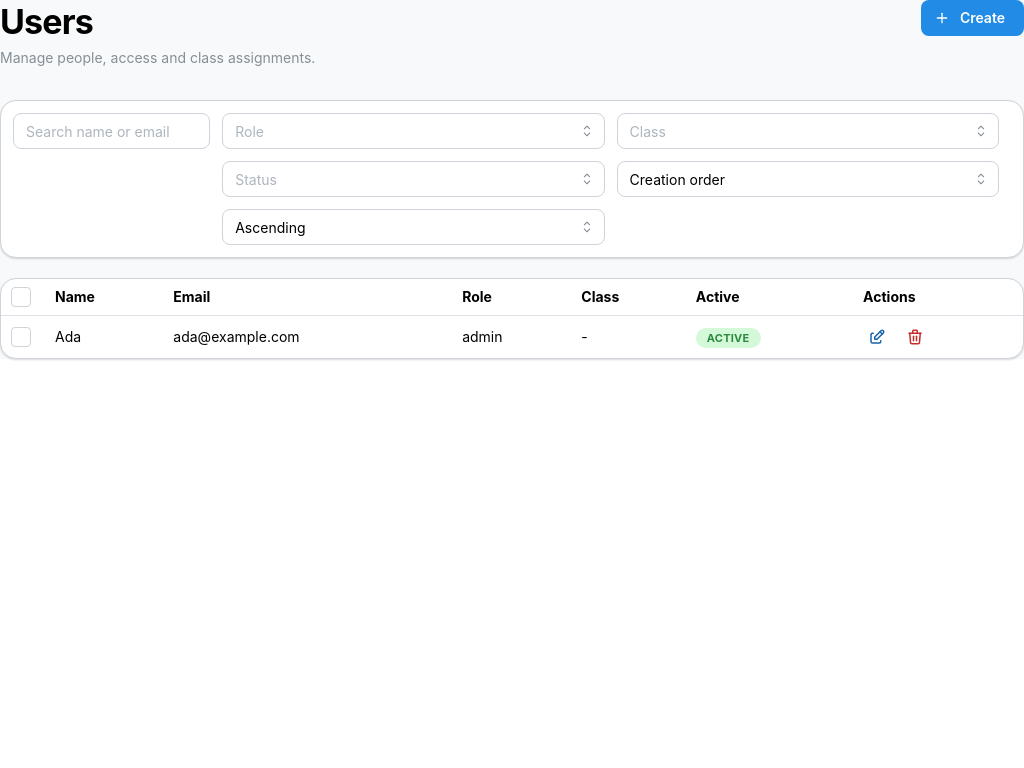
it: UsersPage filtering › opens the edit modal with list data and no loading spinner
What coordinates should you click on to do the following:
click the button named "Edit"
I would click on:
 (877, 337)
Its box is 863,323 -> 891,351.
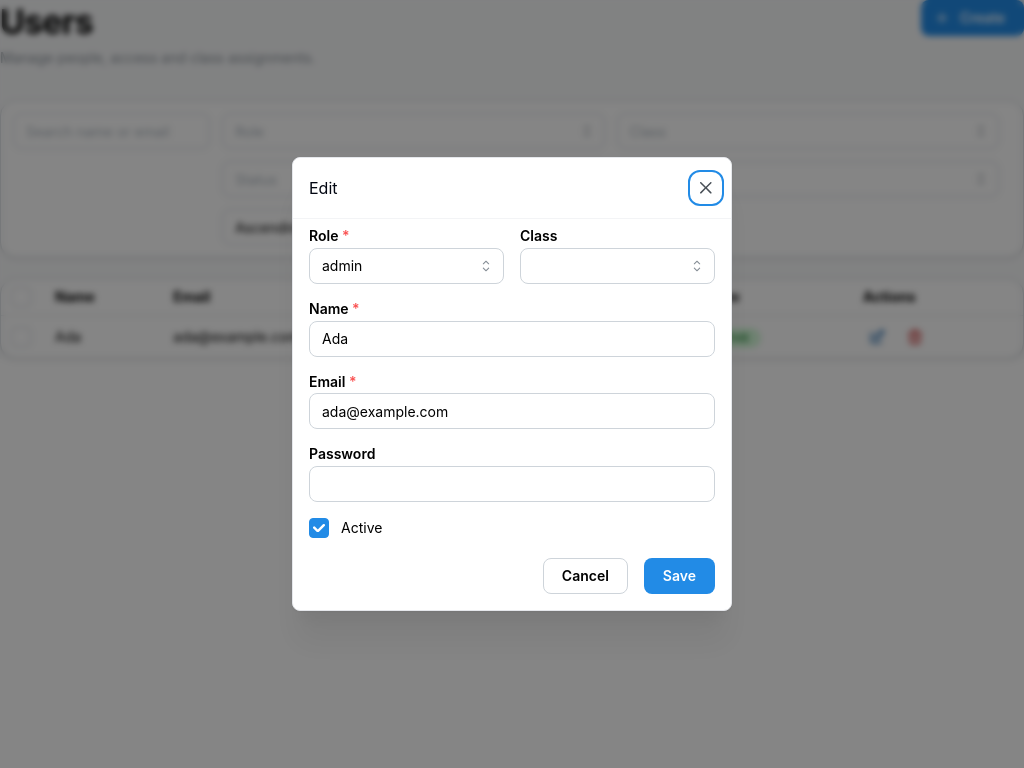
Expected: the field showing "ada@example.com" is shown, 309,393 -> 715,429
